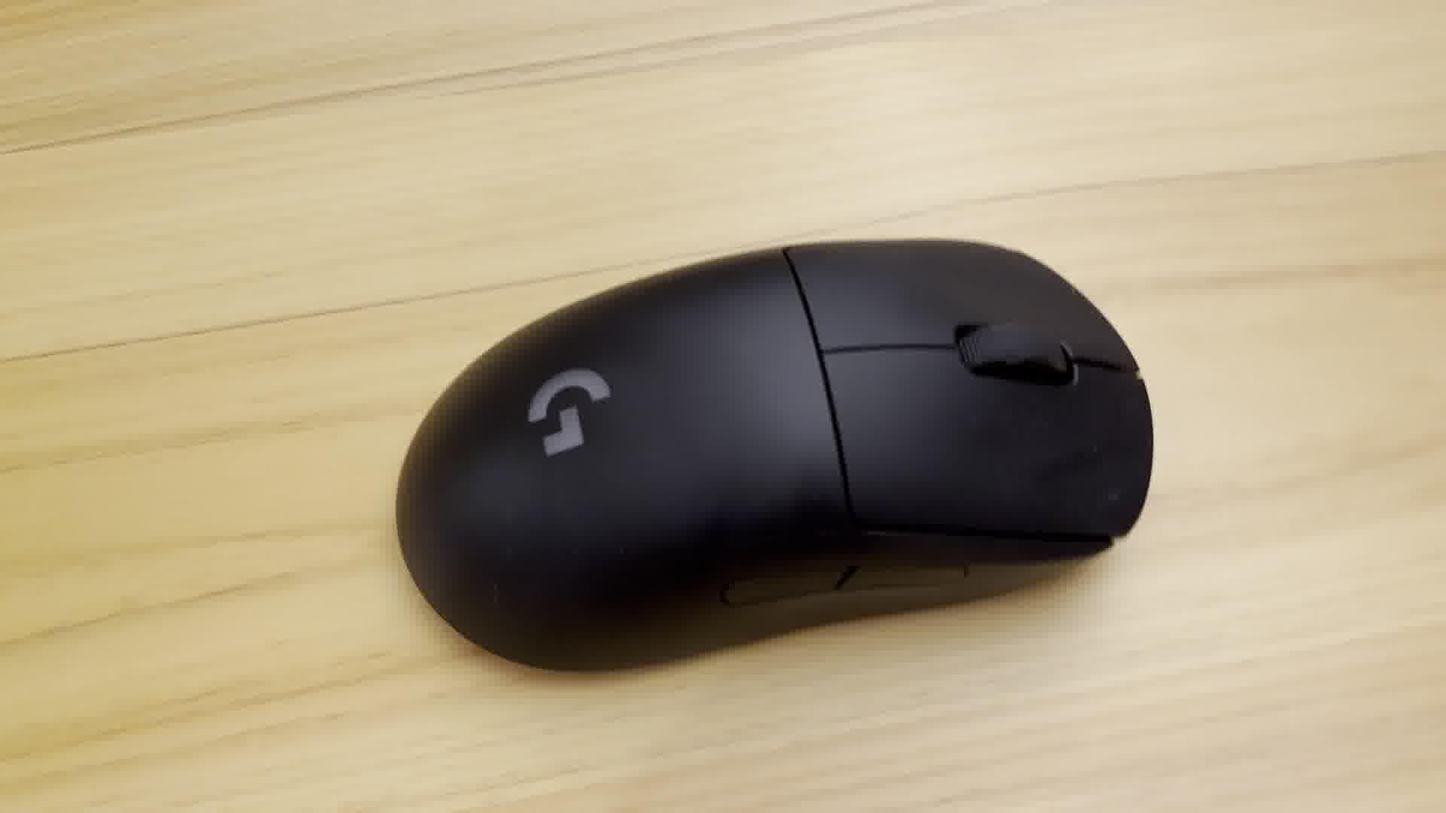logicool: (385, 230, 1169, 687)
